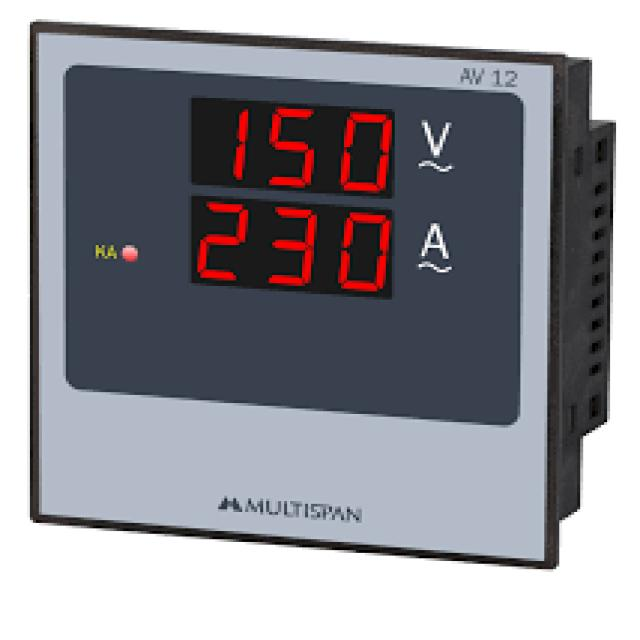0: (334, 106, 399, 200), (342, 210, 394, 295)
1: (210, 97, 268, 188)
2: (194, 199, 264, 283)
3: (271, 205, 325, 288)
5: (271, 96, 327, 190)
screen: (188, 96, 404, 203), (190, 195, 390, 302)
